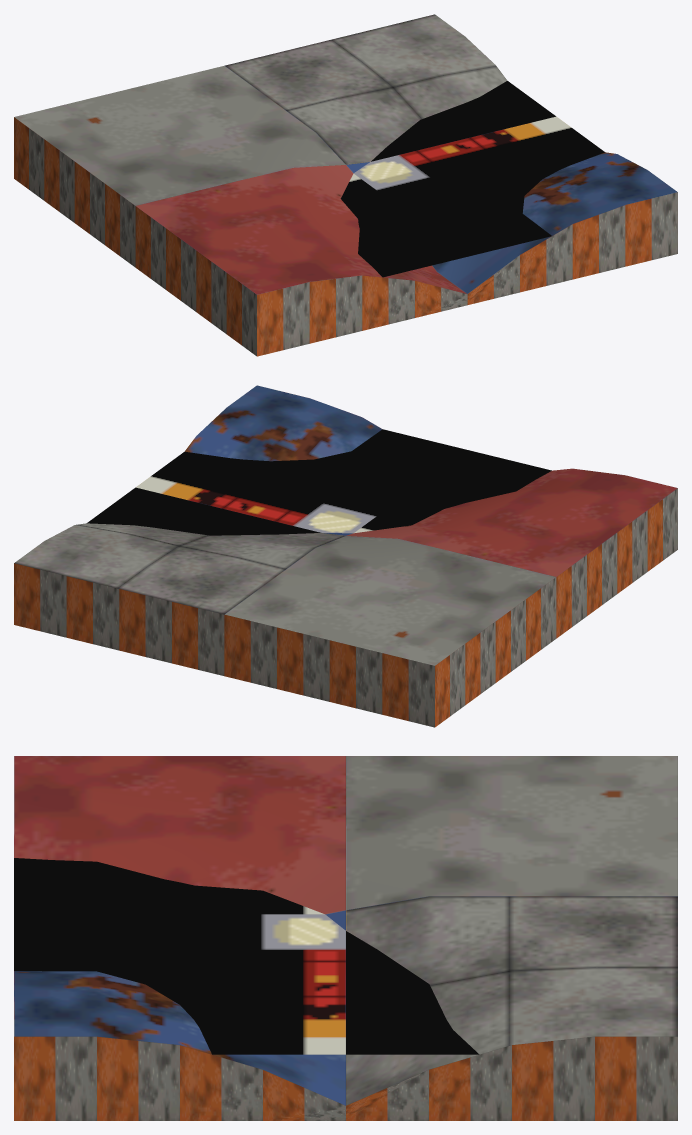
File: SM_creek_bend.fbx
3 views of the same model, one above another, from view 1: azimuth 30°, elevation 25°; view 2: azimuth 150°, elevation 25°; view 3: azimuth 270°, elevation 25° (orthographic). The views are drawn at different scales.
Parts seen in each view (by area): view 1: creek_bend; view 2: creek_bend; view 3: creek_bend.
Boxes of the visible parts, box(x1,y1,x2,y2) form: creek_bend: box(14, 14, 677, 356); creek_bend: box(14, 385, 677, 727); creek_bend: box(14, 756, 677, 1120).
Bounding box in the file's own units: 4 × 0.56 × 4.
